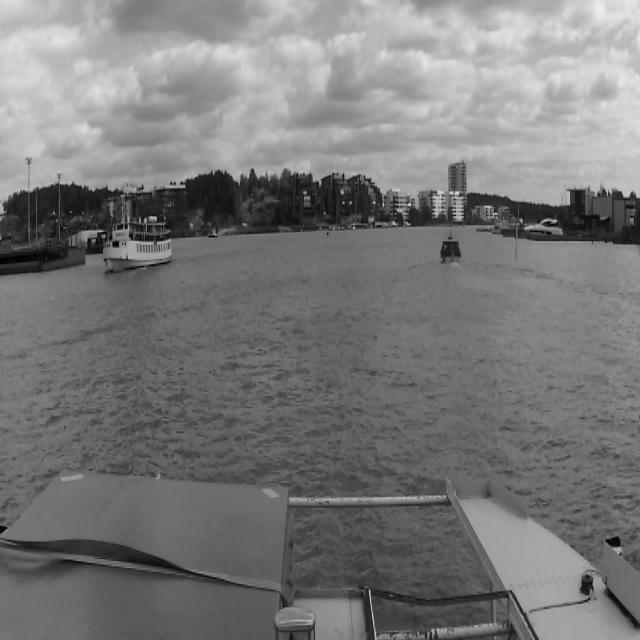ship: (102, 214, 172, 268), (524, 212, 564, 242), (441, 239, 461, 261), (205, 228, 218, 239), (389, 220, 398, 228), (404, 220, 411, 228)
